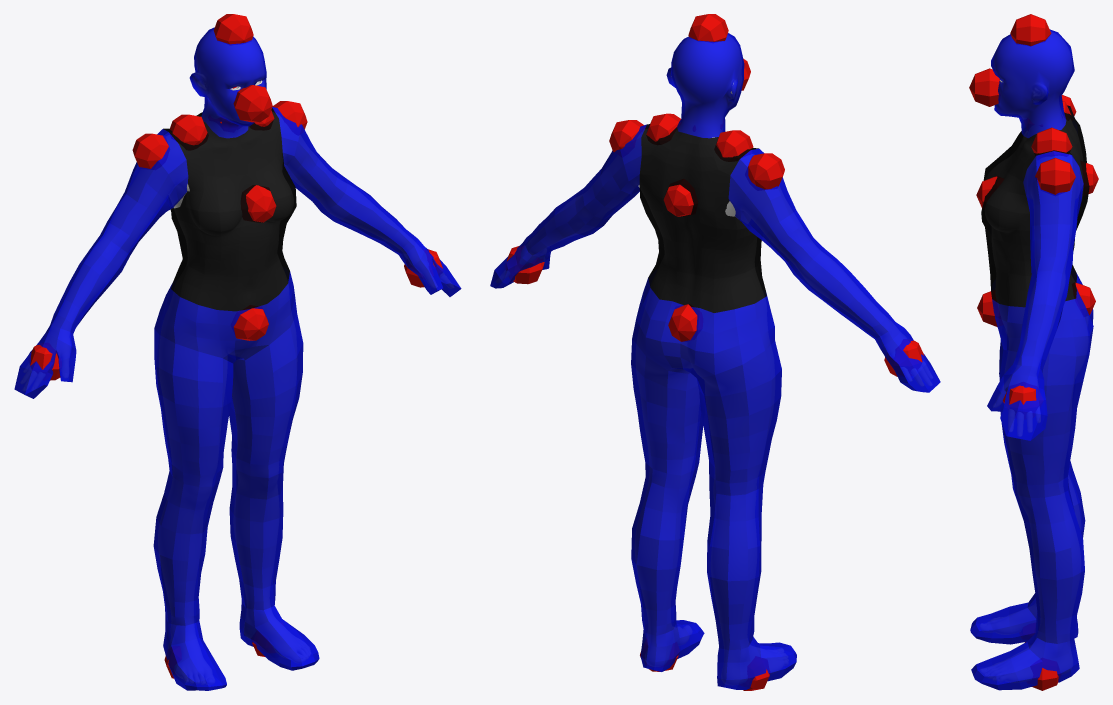
The model's file is V9_Cage_Att_MVC_Template_8.fbx.
3 views of the same model, side by side, from view 1: azimuth 30°, elevation 25°; view 2: azimuth 150°, elevation 25°; view 3: azimuth 270°, elevation 25° (orthographic).
Parts seen in each view (by area): view 1: UpperTorso_OuterCage, RightUpperLeg_OuterCage, LeftUpperLeg_OuterCage, RightLowerLeg_OuterCage, LeftLowerLeg_OuterCage, LowerTorso_OuterCage, Head_OuterCage, RightUpperArm_OuterCage, RightLowerArm_OuterCage, LeftUpperArm_OuterCage, LeftFoot_OuterCage, LeftLowerArm_OuterCage (+9 smaller); view 2: UpperTorso_OuterCage, RightUpperLeg_OuterCage, LowerTorso_OuterCage, RightLowerLeg_OuterCage, LeftUpperLeg_OuterCage, LeftLowerLeg_OuterCage, Head_OuterCage, RightUpperArm_OuterCage, RightLowerArm_OuterCage, LeftUpperArm_OuterCage, RightFoot_OuterCage, LeftLowerArm_OuterCage (+8 smaller); view 3: UpperTorso_OuterCage, LeftLowerLeg_OuterCage, LeftUpperLeg_OuterCage, Head_OuterCage, LeftUpperArm_OuterCage, LeftFoot_OuterCage, LeftLowerArm_OuterCage, LowerTorso_OuterCage, LeftHand_OuterCage, RightFoot_OuterCage, LeftShoulder_Att, Hat_Att (+9 smaller).
Boxes of the visible parts, x1,y1,x2,y2 form: UpperTorso_OuterCage: [163, 108, 296, 311]; RightUpperLeg_OuterCage: [154, 329, 233, 486]; LeftUpperLeg_OuterCage: [229, 314, 303, 478]; RightLowerLeg_OuterCage: [153, 471, 219, 625]; LeftLowerLeg_OuterCage: [229, 463, 283, 610]; LowerTorso_OuterCage: [154, 271, 296, 363]; Head_OuterCage: [189, 27, 266, 138]; RightUpperArm_OuterCage: [100, 129, 188, 254]; RightLowerArm_OuterCage: [50, 235, 130, 333]; LeftUpperArm_OuterCage: [272, 107, 347, 211]; LeftFoot_OuterCage: [239, 600, 319, 670]; LeftLowerArm_OuterCage: [321, 176, 417, 254]; UpperTorso_OuterCage: [639, 124, 766, 312]; RightUpperLeg_OuterCage: [696, 341, 781, 495]; LowerTorso_OuterCage: [632, 277, 774, 378]; RightLowerLeg_OuterCage: [707, 485, 763, 650]; LeftUpperLeg_OuterCage: [631, 338, 703, 489]; LeftLowerLeg_OuterCage: [631, 476, 695, 635]; Head_OuterCage: [666, 33, 744, 138]; RightUpperArm_OuterCage: [728, 148, 824, 274]; RightLowerArm_OuterCage: [794, 248, 895, 338]; LeftUpperArm_OuterCage: [575, 124, 646, 227]; RightFoot_OuterCage: [717, 636, 796, 689]; LeftLowerArm_OuterCage: [525, 193, 602, 256]; UpperTorso_OuterCage: [981, 105, 1089, 307]; LeftLowerLeg_OuterCage: [1013, 486, 1084, 643]; LeftUpperLeg_OuterCage: [999, 349, 1089, 497]; Head_OuterCage: [991, 29, 1074, 138]; LeftUpperArm_OuterCage: [1023, 151, 1083, 278]; LeftFoot_OuterCage: [971, 633, 1079, 690]; LeftLowerArm_OuterCage: [1013, 271, 1069, 371]; LowerTorso_OuterCage: [992, 273, 1093, 356]; LeftHand_OuterCage: [987, 364, 1047, 440]; RightFoot_OuterCage: [970, 593, 1078, 644]; LeftShoulder_Att: [1035, 158, 1075, 194]; Hat_Att: [1010, 14, 1051, 46].
Size of the model in its own units: 4.08 by 5.88 by 1.06.
